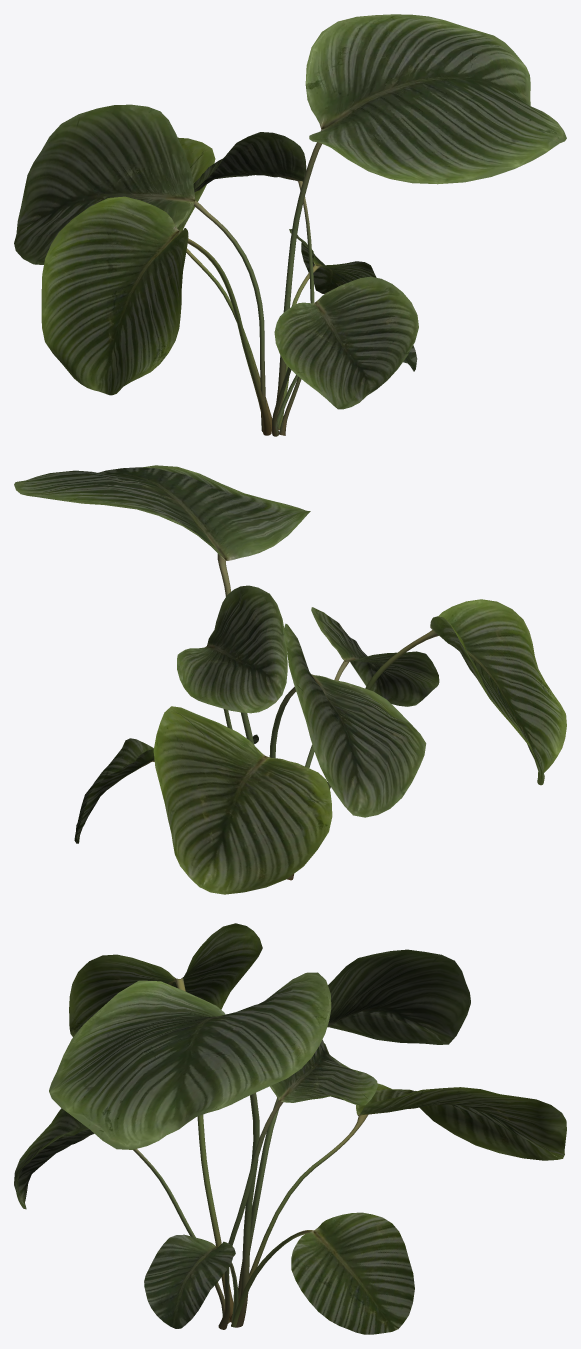
The model's file is calathea-a.glb.
3 renders of one model, top to bottom at view 1: azimuth 30°, elevation 25°; view 2: azimuth 150°, elevation 25°; view 3: azimuth 270°, elevation 25°, orthographic. The views are drawn at different scales.
Visible parts, largest first — view 1: calathea_orbifolia_01_a; view 2: calathea_orbifolia_01_a; view 3: calathea_orbifolia_01_a.
Boxes of the visible parts, bbox=[...] form: calathea_orbifolia_01_a: bbox=[14, 14, 566, 436]; calathea_orbifolia_01_a: bbox=[14, 465, 566, 894]; calathea_orbifolia_01_a: bbox=[14, 923, 566, 1334].
Size of the model in its own units: 0.6006 by 0.4243 by 0.5257.
Materials: 1 (1 with a texture image).
